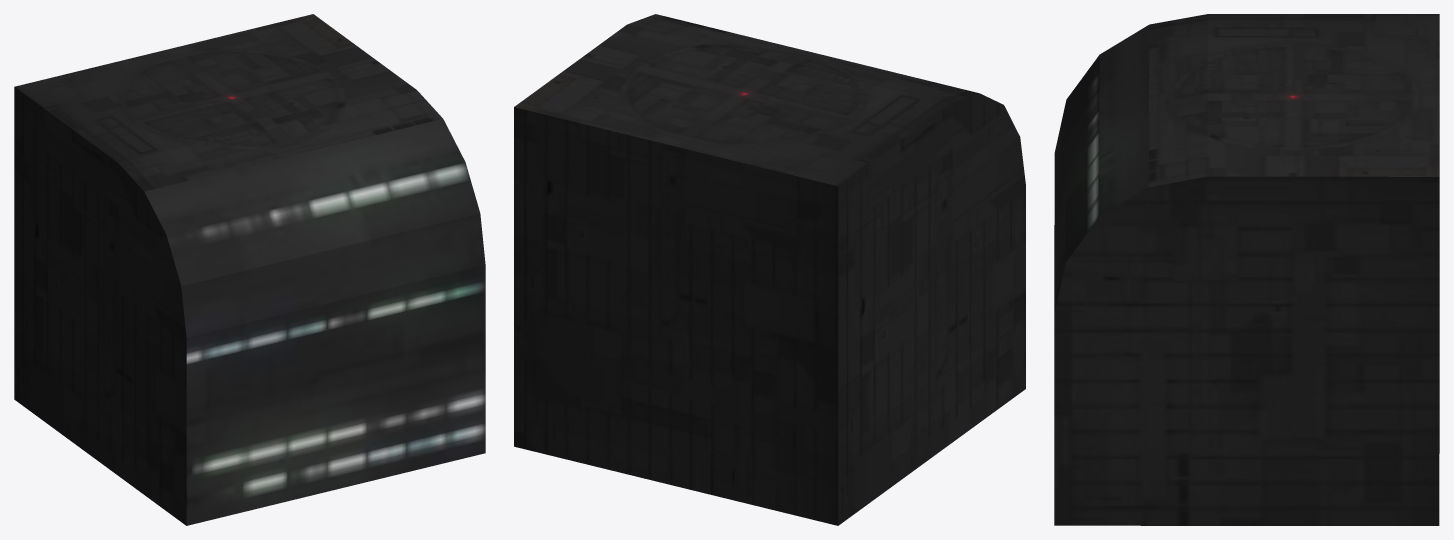
The model's file is scifi_building_10.obj.
3 views of the same model, side by side, from view 1: azimuth 30°, elevation 25°; view 2: azimuth 150°, elevation 25°; view 3: azimuth 270°, elevation 25° (orthographic). The views are drawn at different scales.
Visible parts, largest first — view 1: building_10; view 2: building_10; view 3: building_10.
Part boxes in pixels (<box>): building_10: <box>14,14,485,525</box>; building_10: <box>514,14,1025,525</box>; building_10: <box>1054,14,1439,525</box>.
Bounding box in the file's own units: 44.48 × 44.45 × 44.48.
